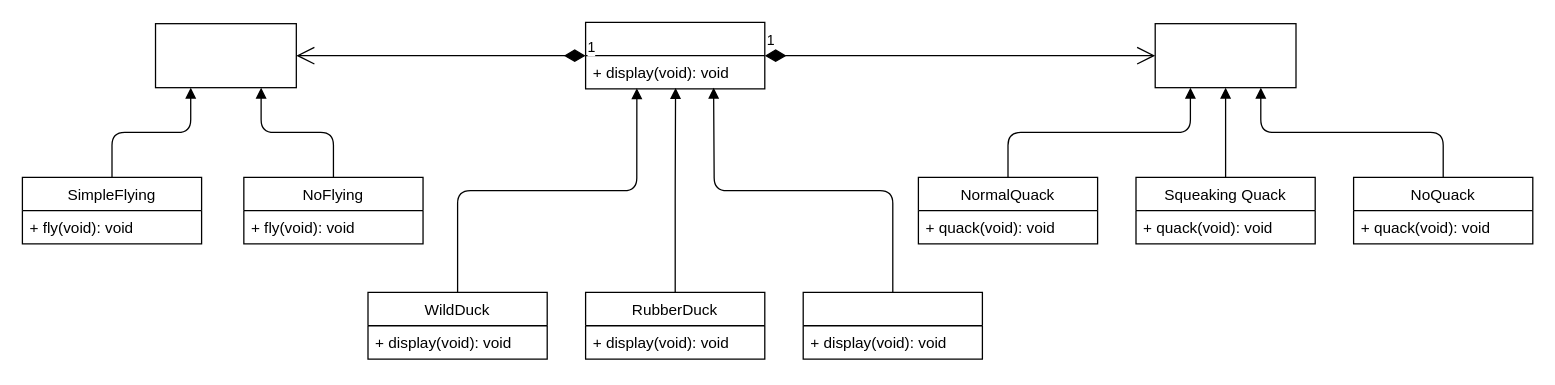
Some shapes in this 1555 by 385 pixel diagram are drawn without their labels. Each missing label, with the box of its shape:
Duck: (584, 21, 765, 89)
HumanDuck: (802, 291, 982, 359)
«interface» IFlyingBehavior: (154, 22, 296, 88)
«interface» IQuackBehavior: (1154, 22, 1296, 88)
